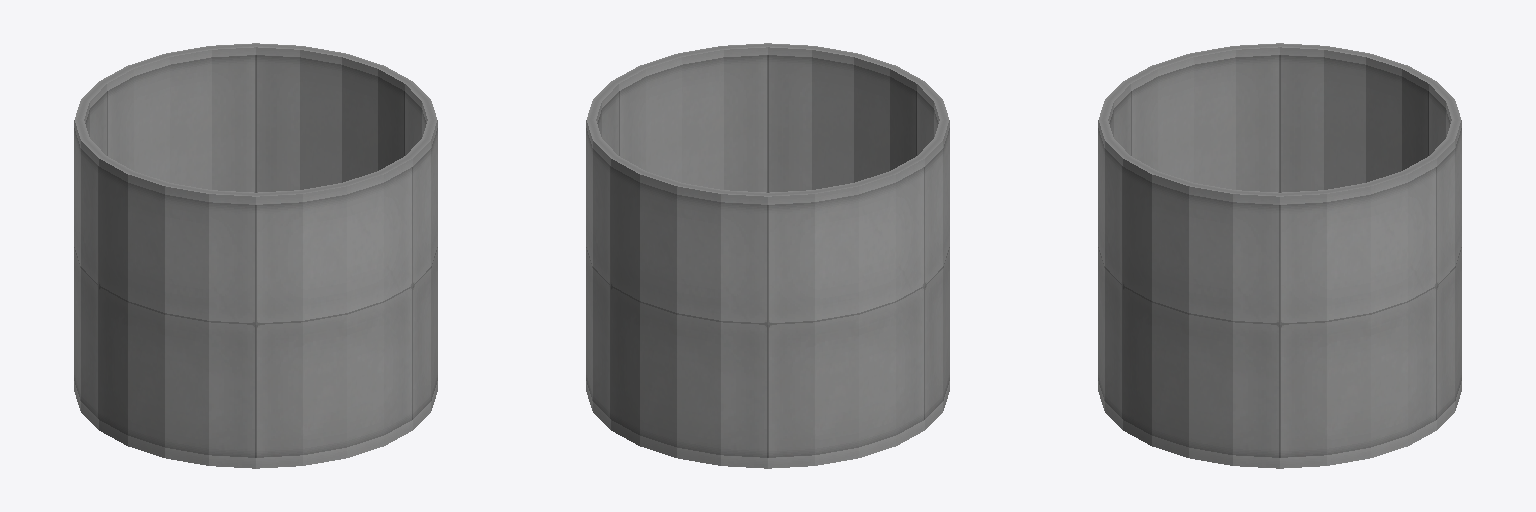
3 renders of one model, left to right at view 1: azimuth 30°, elevation 25°; view 2: azimuth 150°, elevation 25°; view 3: azimuth 270°, elevation 25°, orthographic.
Parts seen in each view (by area): view 1: Knight_Motor_A_Fairing; view 2: Knight_Motor_A_Fairing; view 3: Knight_Motor_A_Fairing.
Part boxes in pixels (x1,y1,x2,y2): Knight_Motor_A_Fairing: (74, 43, 437, 468); Knight_Motor_A_Fairing: (586, 43, 949, 468); Knight_Motor_A_Fairing: (1098, 43, 1461, 468).
Bounding box in the file's own units: 0.9375 × 0.775 × 0.9375.
Materials: 1 (1 with a texture image).